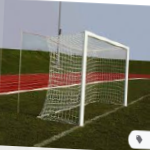goals: (40, 29, 132, 127)
